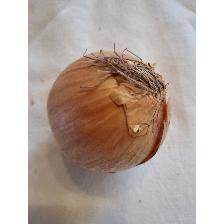Zwiebel: (44, 43, 172, 177)
